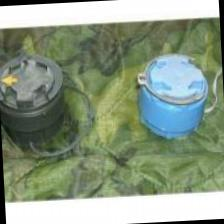M14: (132, 52, 212, 144), (0, 50, 70, 143)
